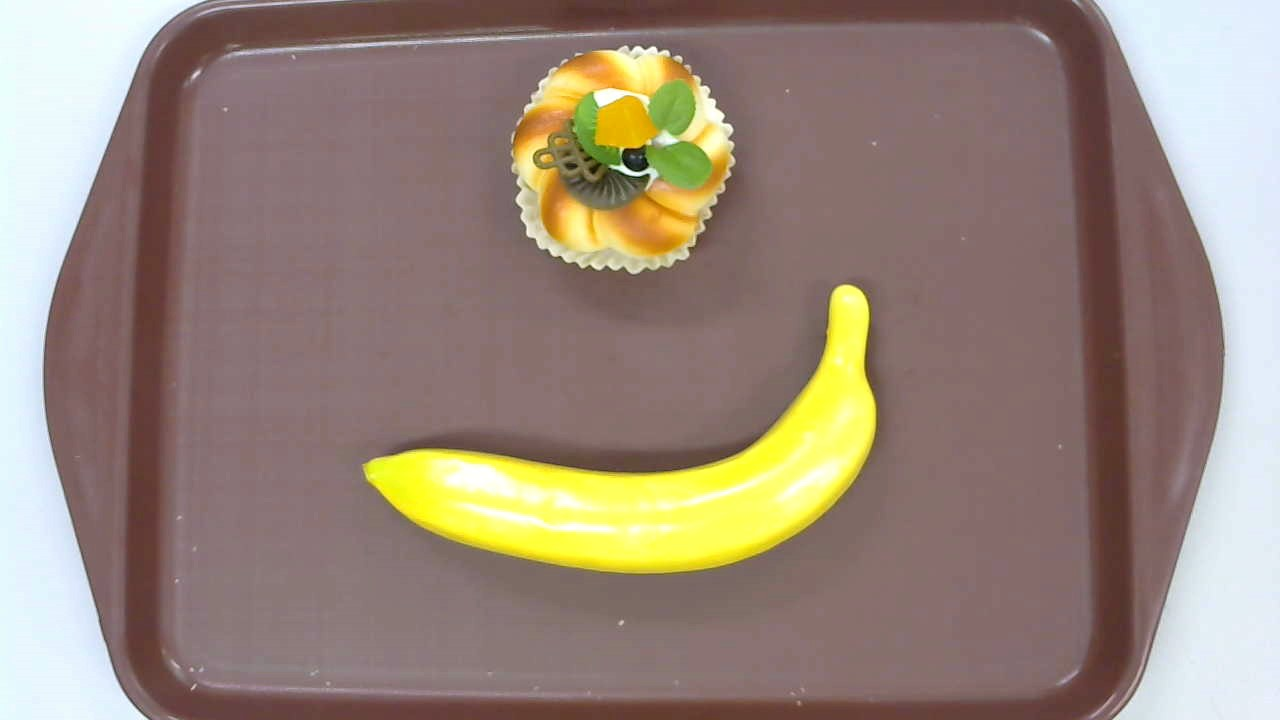banana: (360, 284, 877, 575)
fruit tart: (509, 43, 737, 277)
